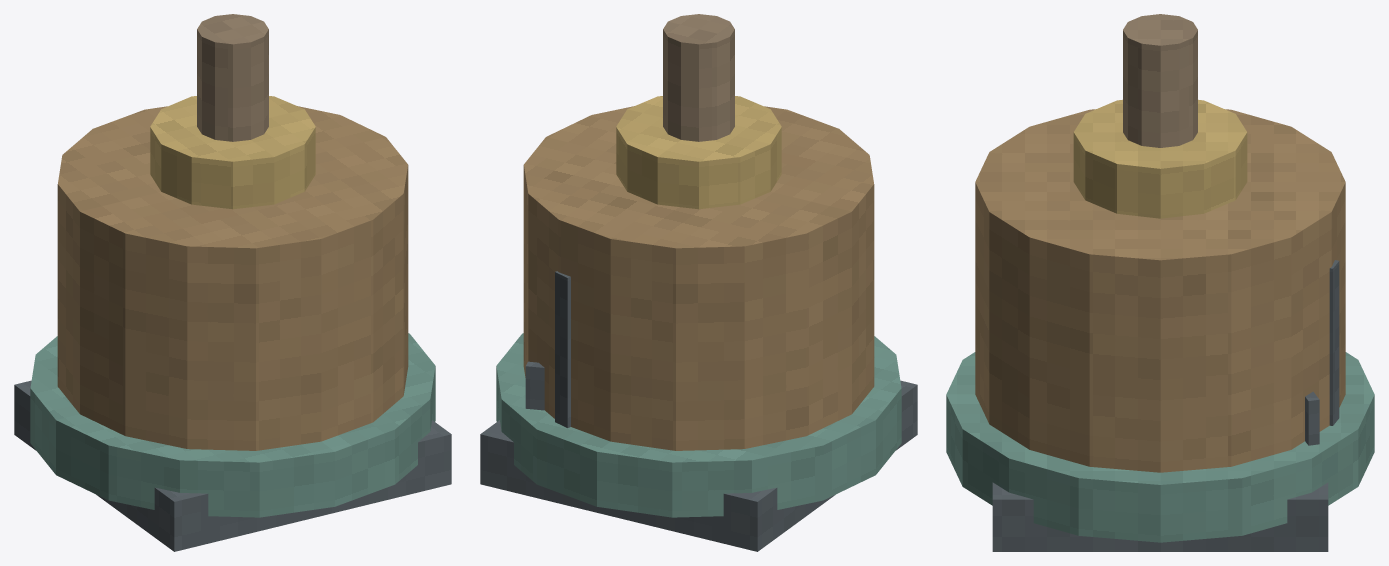
The model's file is level_blockout_relic_votive_bell.glb.
3 views of the same model, side by side, from view 1: azimuth 30°, elevation 25°; view 2: azimuth 150°, elevation 25°; view 3: azimuth 270°, elevation 25° (orthographic). The views are drawn at different scales.
Visible parts, largest first — view 1: level_blockout_relic_votive_bell; view 2: level_blockout_relic_votive_bell; view 3: level_blockout_relic_votive_bell.
Boxes of the visible parts, box(x1,y1,x2,y2) form: level_blockout_relic_votive_bell: box(14, 14, 451, 551); level_blockout_relic_votive_bell: box(480, 14, 917, 551); level_blockout_relic_votive_bell: box(946, 14, 1374, 551).
Bounding box in the file's own units: 0.74 × 0.86 × 0.74.
Materials: 5 (5 with a texture image).
